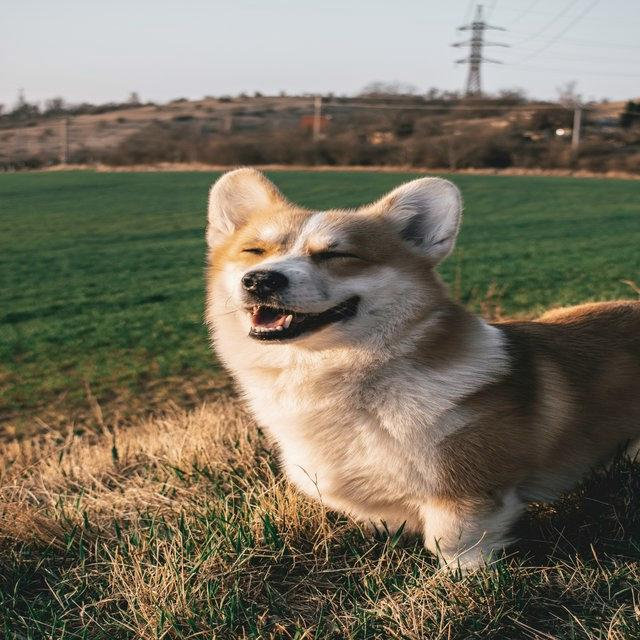corgi: (203, 165, 640, 578)
